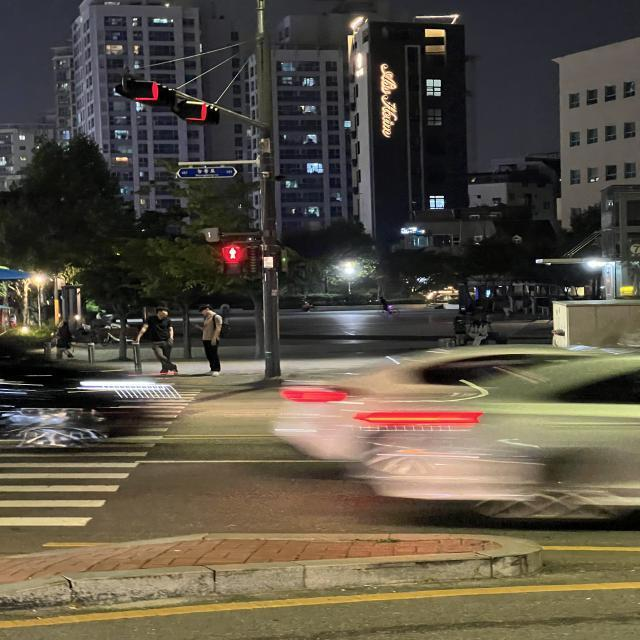crosswalk: (0, 365, 212, 544)
red-crossing: (218, 244, 266, 290)
